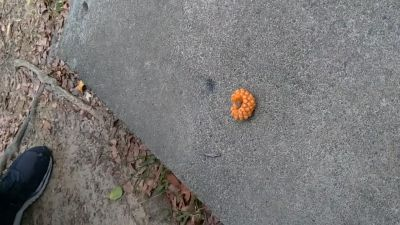eggs: (228, 85, 258, 122)
